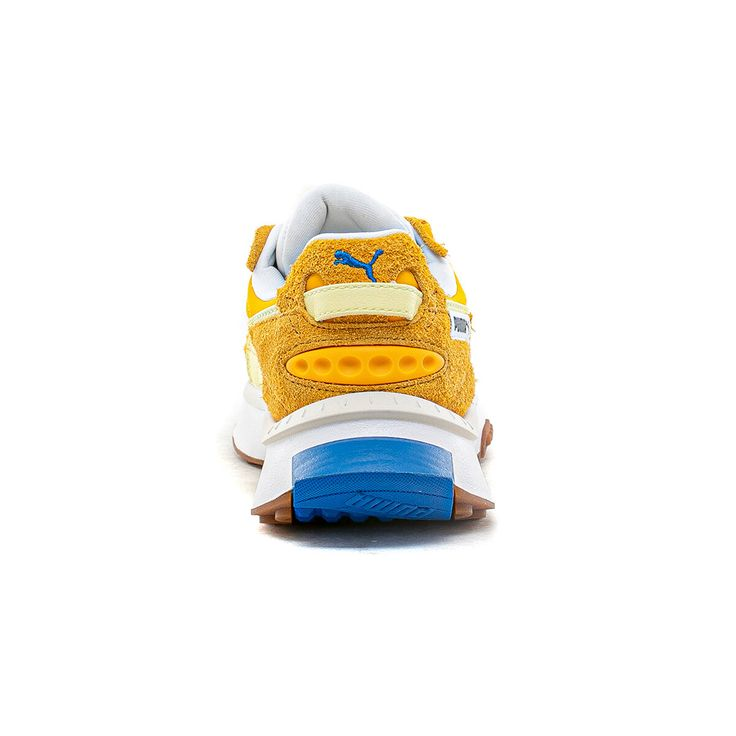gamuza: (247, 216, 479, 424)
